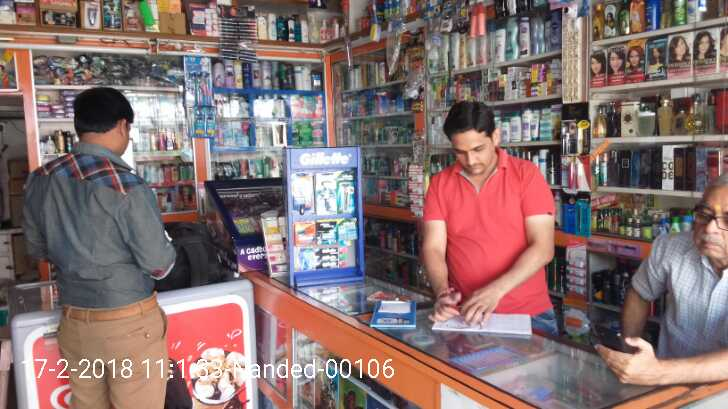gillete: (315, 173, 339, 212), (293, 173, 315, 213), (339, 176, 355, 214), (293, 221, 315, 245), (315, 221, 335, 245), (339, 221, 358, 242), (317, 263, 342, 270), (318, 256, 342, 261), (319, 248, 342, 253)
